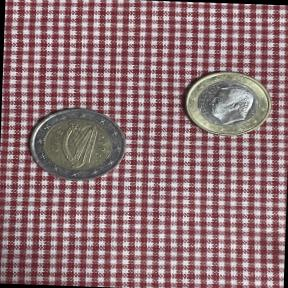1 Euro-B: (177, 66, 278, 144)
2 Euro-B: (22, 101, 130, 187)
